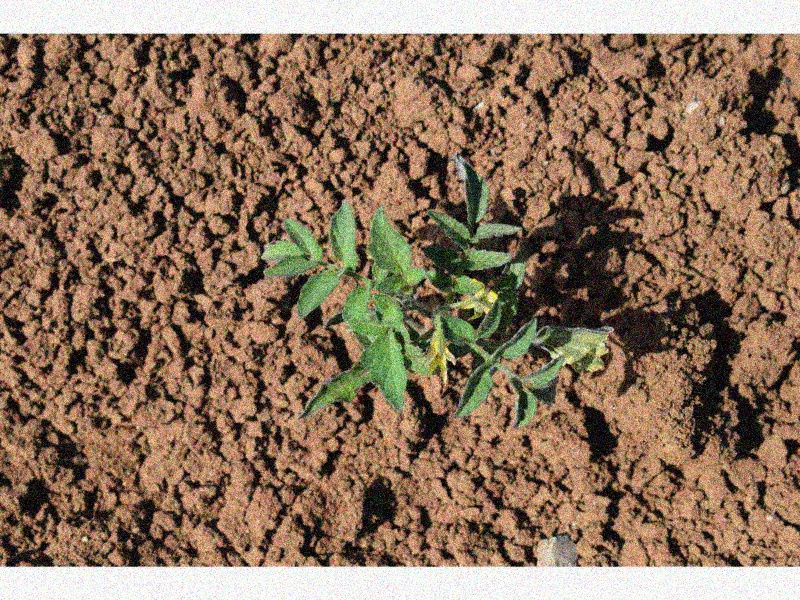tomato: (262, 154, 606, 433)
